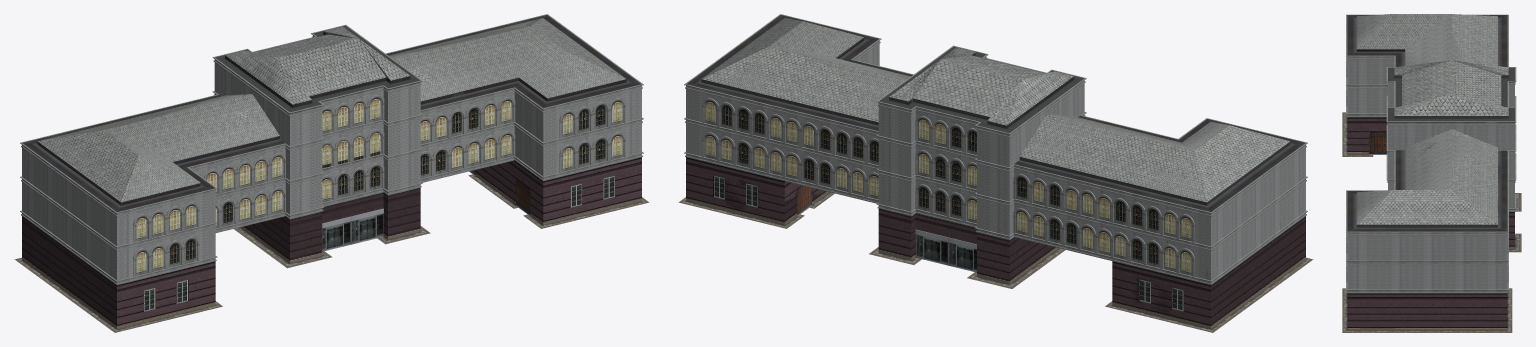
File: exhibit_plaza.FBX
The picture shows the model from 3 angles, left to right: view 1: azimuth 30°, elevation 25°; view 2: azimuth 150°, elevation 25°; view 3: azimuth 270°, elevation 25°; orthographic projection. The views are drawn at different scales.
Parts seen in each view (by area): view 1: LOD_exhibit_plaza, exhibit_plaza, exhibit_plaе_winframe, LOD_si_win_exhibit_plaza; view 2: exhibit_plaza, LOD_exhibit_plaza, exhibit_plaе_winframe, LOD_si_win_exhibit_plaza; view 3: exhibit_plaza, LOD_exhibit_plaza, exhibit_plaе_winframe.
Part boxes in pixels (x1=…): LOD_exhibit_plaza: x1=22, y1=15, x2=641, y2=325; exhibit_plaza: x1=14, y1=14, x2=649, y2=332; exhibit_plaе_winframe: x1=133, y1=95, x2=625, y2=276; LOD_si_win_exhibit_plaza: x1=136, y1=99, x2=622, y2=272; exhibit_plaza: x1=678, y1=14, x2=1313, y2=332; LOD_exhibit_plaza: x1=686, y1=15, x2=1305, y2=325; exhibit_plaе_winframe: x1=702, y1=98, x2=1194, y2=276; LOD_si_win_exhibit_plaza: x1=705, y1=102, x2=1191, y2=272; exhibit_plaza: x1=1342, y1=14, x2=1521, y2=332; LOD_exhibit_plaza: x1=1347, y1=14, x2=1514, y2=327; exhibit_plaе_winframe: x1=1346, y1=57, x2=1508, y2=282.
Size of the model in its own units: 289 by 98.98 by 88.67.
